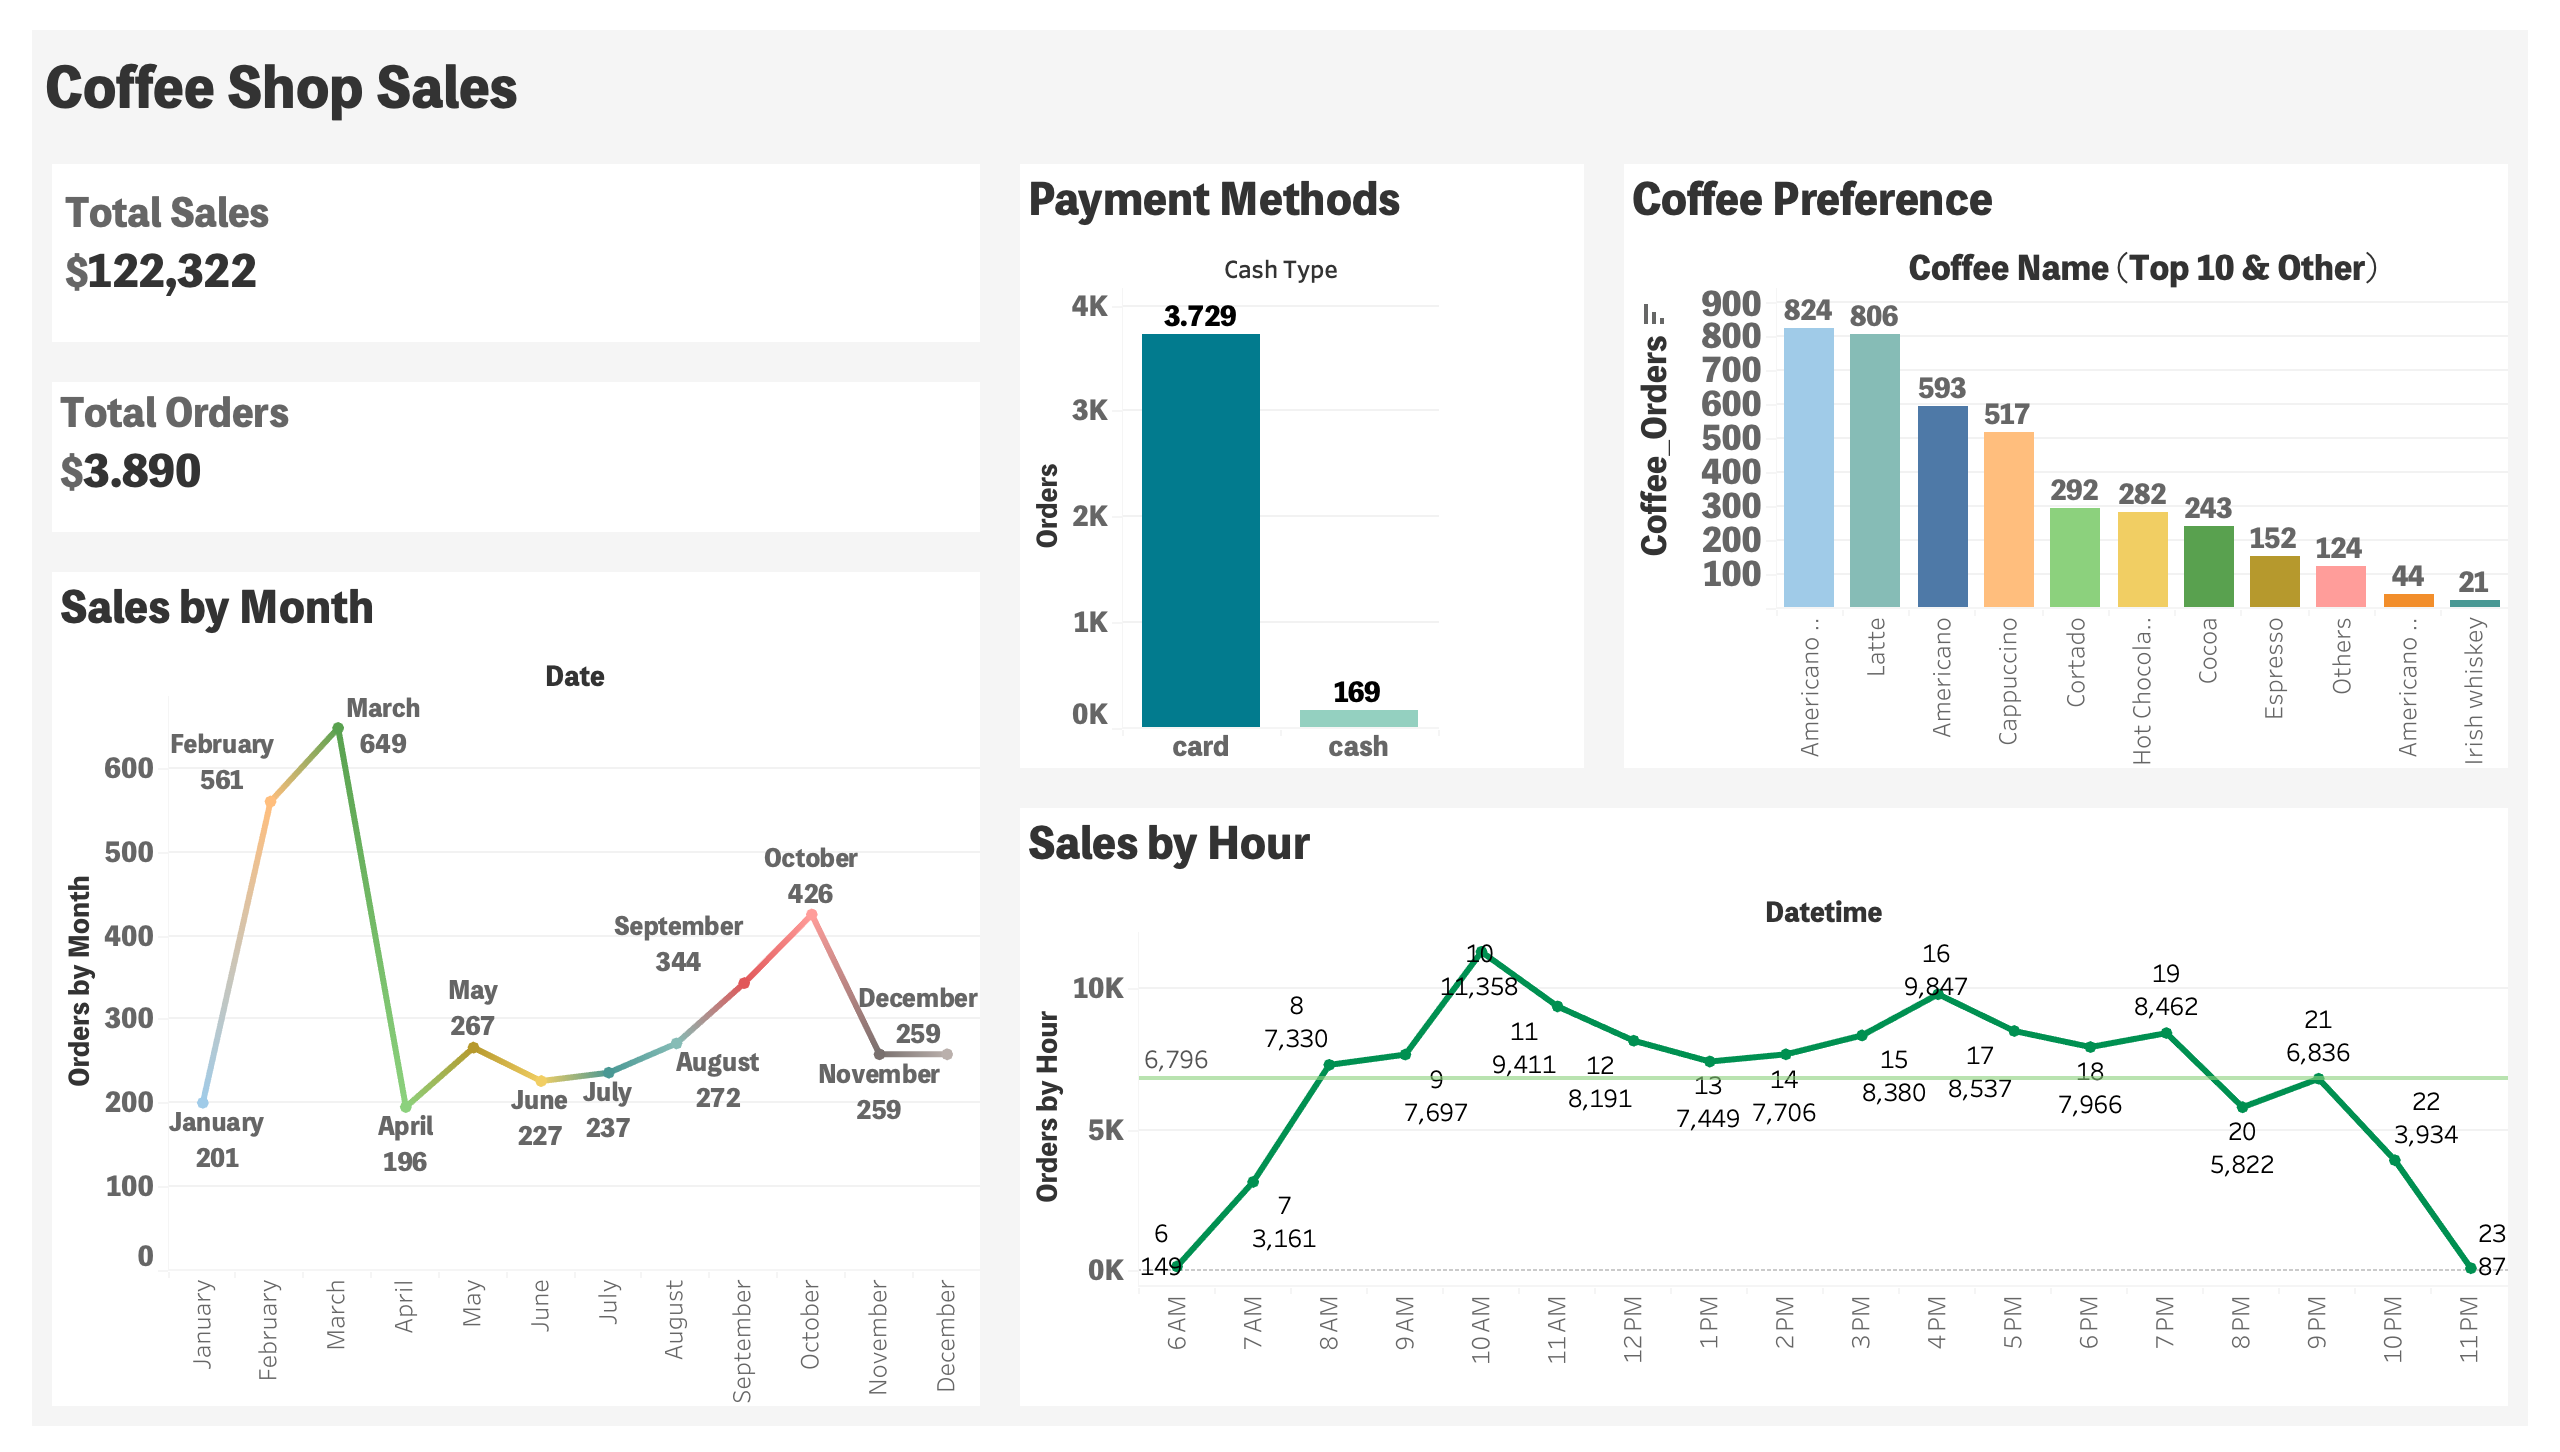

The page's visual inventory and layout, read from the dashboard file:
{"tool":"tableau","page":{"name":"Dashboard 1","canvas":[1000,1000],"units":"permille","ordinal":0},"visuals":[{"type":"legend","title":"Coffee_Preference","param":"[federated.0kbp8q013pzy4c1gme2ka1skoqdu].[none:Calculation_106749387311661057:nk","box":[871.9,14.3,120.7,301.2]},{"type":"text","box":[15,28.5,849.4,76.7]},{"type":"worksheet","title":"Total_Sales_KPI","mark":"Text","box":[15,105.2,329.2,147.1]},{"type":"worksheet","title":"Payment_Methods","mark":"Automatic","rows":["index_1.csv_8F1CFAB99E414431A7877692439D85E6"],"cols":["cash_type"],"box":[344.2,105.2,205.9,434.8]},{"type":"worksheet","title":"Coffee_Preference","mark":"Automatic","rows":["index_1.csv_8F1CFAB99E414431A7877692439D85E6"],"cols":["Calculation_106749387311661057"],"box":[550,105.2,314.3,434.8]},{"type":"worksheet","title":"Total_Orders_KPI","mark":"Automatic","box":[15,252.3,329.2,129]},{"type":"legend","title":"Sales_by_Month","param":"[federated.0kbp8q013pzy4c1gme2ka1skoqdu].[mn:date:ok]","box":[871.9,315.5,120.7,477.7]},{"type":"worksheet","title":"Sales_by_Month","mark":"Line","rows":["index_1.csv_8F1CFAB99E414431A7877692439D85E6"],"cols":["date"],"box":[15,381.3,329.2,590.2]},{"type":"worksheet","title":"Sales_by_Hour","mark":"Automatic","rows":["money"],"cols":["datetime"],"box":[344.2,540.1,520.2,431.4]},{"type":"legend","title":"Payment_Methods","param":"[federated.0kbp8q013pzy4c1gme2ka1skoqdu].[none:cash_type:nk]","box":[871.9,793.2,120.7,117.7]},{"type":"legend","title":"Payment_Methods","param":"[federated.0kbp8q013pzy4c1gme2ka1skoqdu].[__tableau_internal_object_id__].[cnt:i","box":[871.9,910.9,120.7,74.9]}]}

Visuals, with their boxes on the dashboard's canvas, which has no fixed pixel size, in thousandths of its width and height (x1, y1, x2, y2). These are canvas units, not pixel positions in the 2560x1452 screenshot, which may show the page scaled, cropped or inside an application window:
"Coffee_Preference" legend: region(872, 14, 993, 316)
text: region(15, 28, 864, 105)
"Total_Sales_KPI" worksheet (Text marks): region(15, 105, 344, 252)
"Payment_Methods" worksheet: region(344, 105, 550, 540)
"Coffee_Preference" worksheet: region(550, 105, 864, 540)
"Total_Orders_KPI" worksheet: region(15, 252, 344, 381)
"Sales_by_Month" legend: region(872, 316, 993, 793)
"Sales_by_Month" worksheet (Line marks): region(15, 381, 344, 972)
"Sales_by_Hour" worksheet: region(344, 540, 864, 972)
"Payment_Methods" legend: region(872, 793, 993, 911)
"Payment_Methods" legend: region(872, 911, 993, 986)
